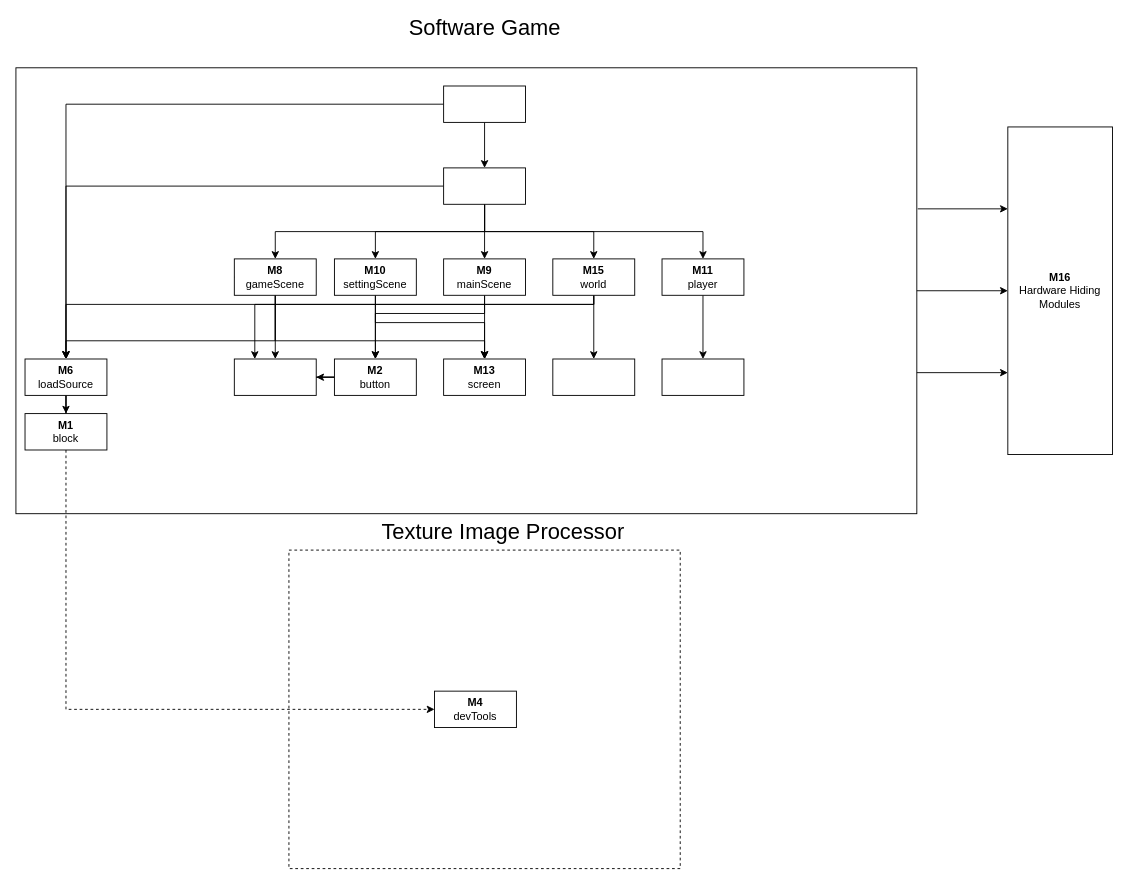
Some shapes in this 1128 by 885 pixel diagram are drawn without their labels. Here are the shapes that lost their labels. From the top down, the centre of each, then its label:
the point at 484,103: M7 main
the point at 484,185: M5 game
the point at 274,376: M14 shape
the point at 593,376: M12 processQueue
the point at 702,376: M3 creature
